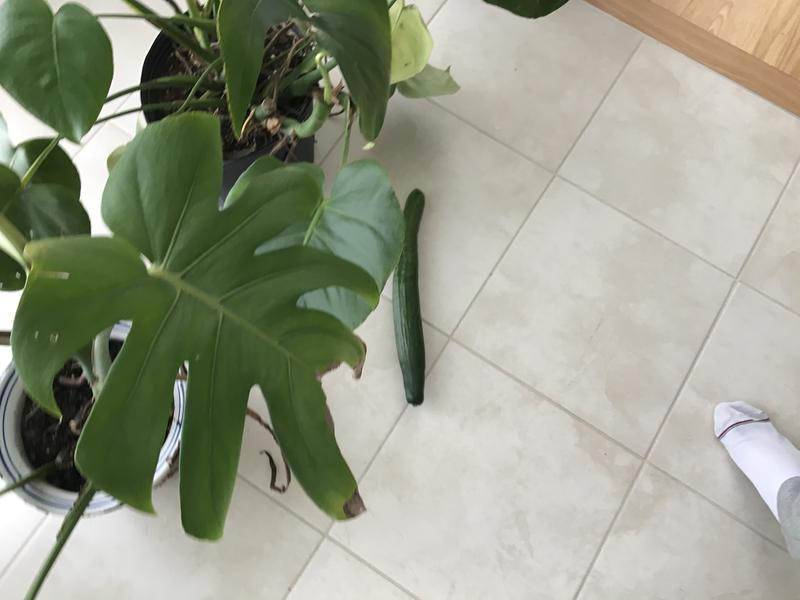cucumber: (386, 185, 433, 418)
